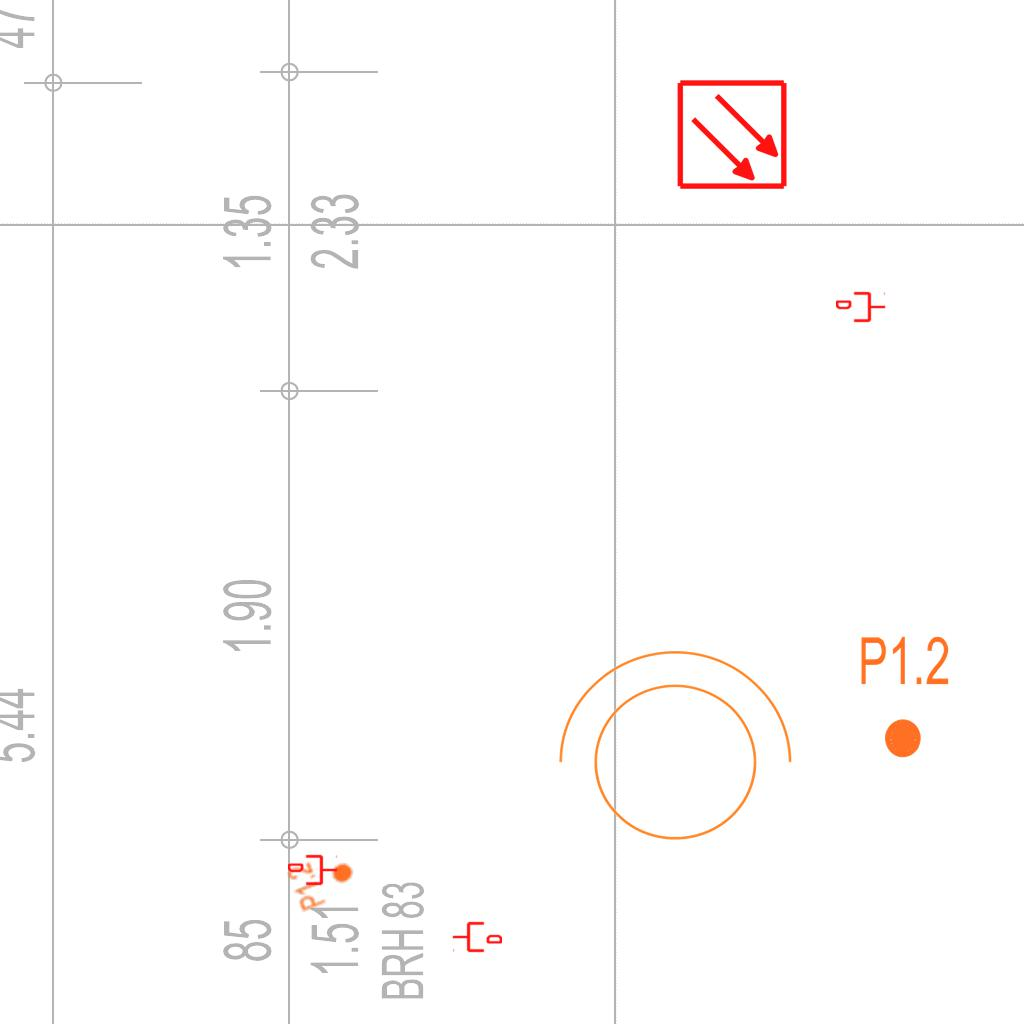Datenanschluss_einfach: (836, 290, 886, 324), (452, 920, 502, 954), (288, 853, 338, 887)
Downlight_LED_Einbauleuchten_Flur: (858, 633, 951, 761), (284, 846, 362, 914)
RMO_Rauchmelder_optischer: (676, 78, 789, 191)
Scheinwerfer_fuer_Alarmbeleuchtung: (537, 640, 801, 865)
